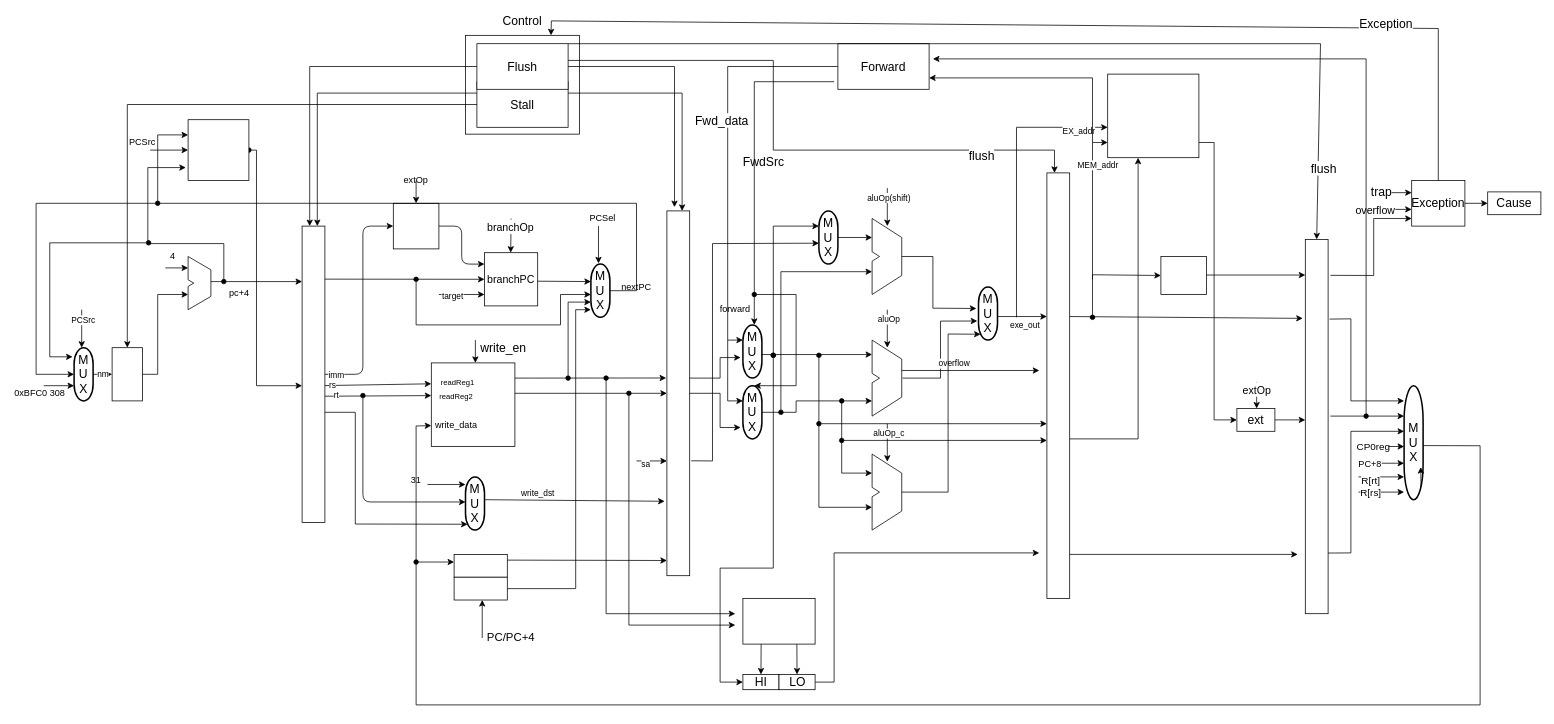
This 1554x724 diagram has some shape labels left out. The shapes that lost their labels are listed below. From the top down, each one's box as (x1, y1, x2, y2) in pixels, then its label:
(1107, 73, 1199, 158): DM_interface
(187, 119, 249, 180): IM-interface
(393, 203, 439, 249): ImmExt
(1160, 256, 1206, 294): addrFault
(111, 347, 142, 401): PC
(431, 362, 515, 446): RF
(453, 554, 507, 577): CP0
(453, 576, 507, 600): EPC
(742, 598, 815, 644): MUL/DIV
